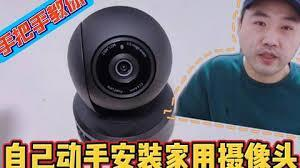maru: (64, 3, 178, 116)
